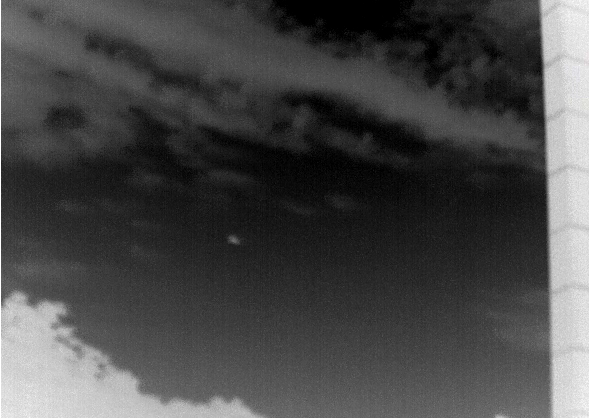dim target: (226, 233, 240, 245)
